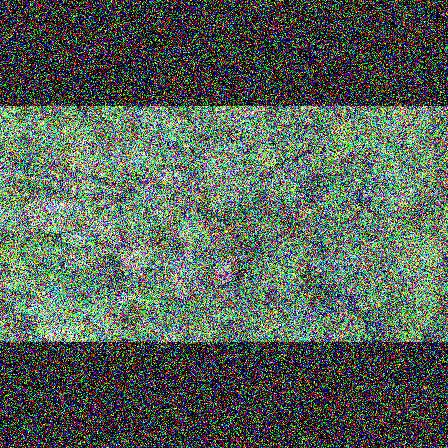Dead: (210, 248, 240, 282), (39, 196, 87, 215), (259, 192, 288, 218), (379, 108, 402, 139), (161, 319, 188, 339), (113, 286, 138, 306)
